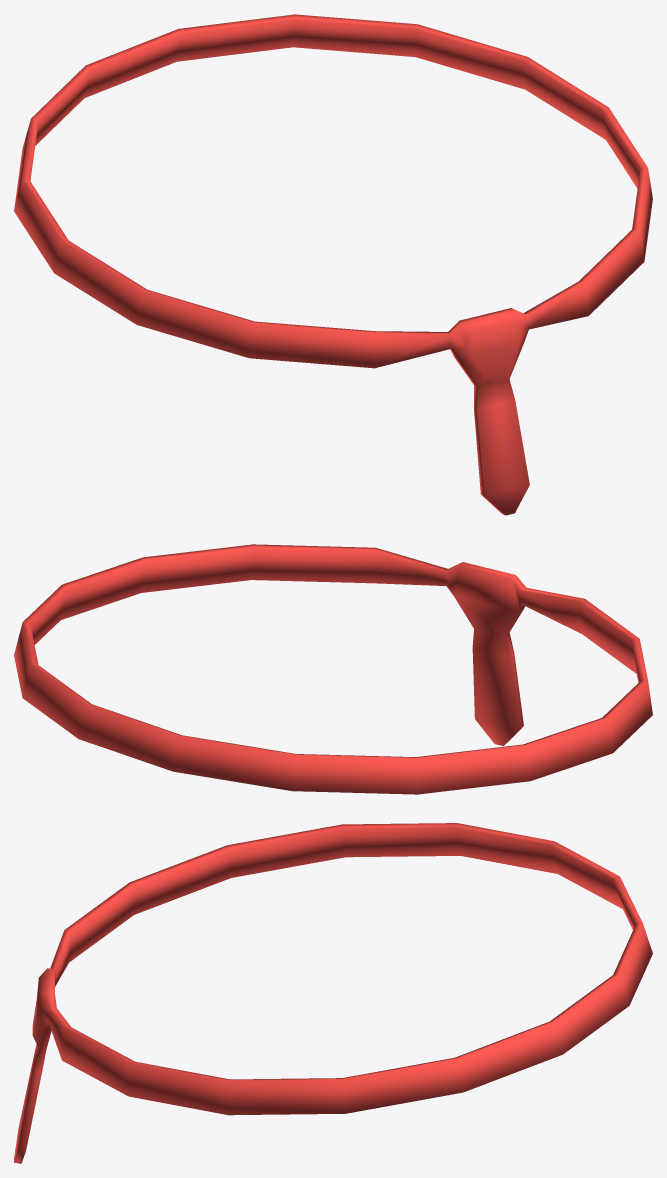
The model's file is tie.fbx.
3 views of the same model, one above another, from view 1: azimuth 30°, elevation 25°; view 2: azimuth 150°, elevation 25°; view 3: azimuth 270°, elevation 25° (orthographic). The views are drawn at different scales.
Visible parts, largest first — view 1: tie; view 2: tie; view 3: tie.
Boxes of the visible parts, left/top/right/bottom form: tie: left=14, top=14, right=652, bottom=515; tie: left=14, top=544, right=652, bottom=794; tie: left=14, top=823, right=652, bottom=1163.
Bounding box in the file's own units: 48.14 × 20.37 × 49.79.
